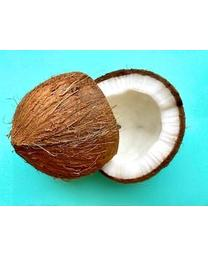coconut: (10, 70, 118, 179), (91, 69, 186, 186)
